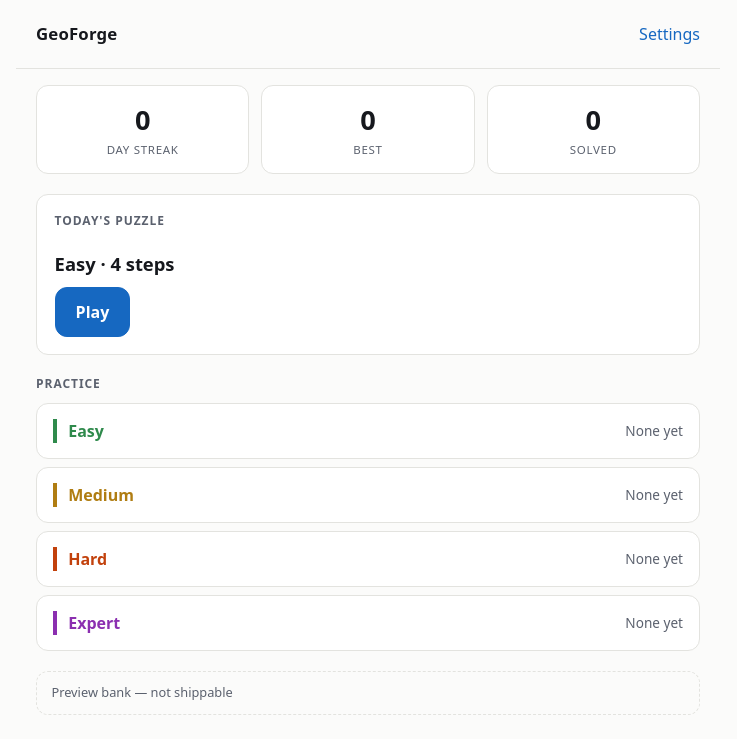
Scenario: settings › names what the preview bank is still missing
This screenshot has width=737, height=739.
Check: the heading "Practice" is shown, box [36, 375, 101, 392]
Click the button "Settings" at x=670, y=34, box [627, 12, 712, 56]
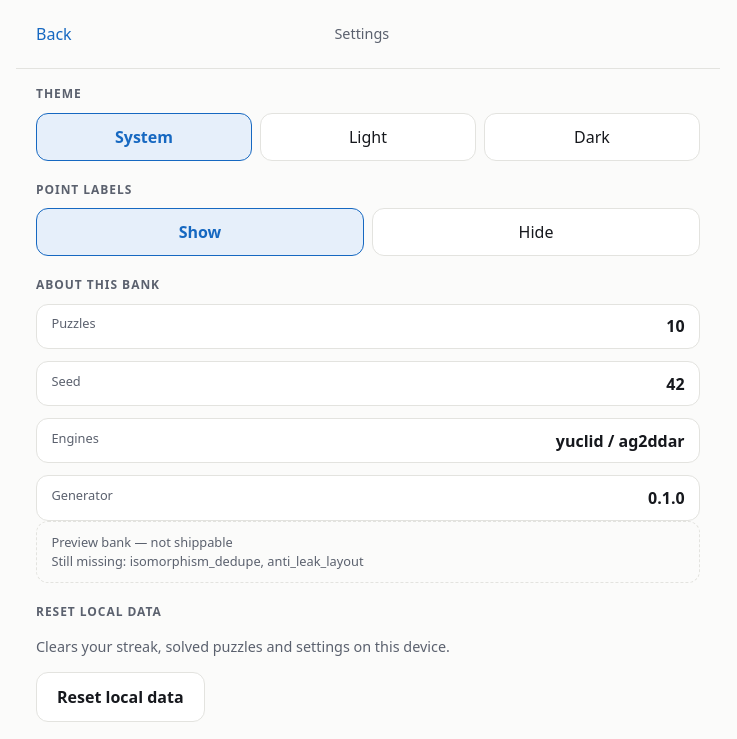
Check: the text "isomorphism_dedupe" is shown, box [51, 552, 364, 570]
